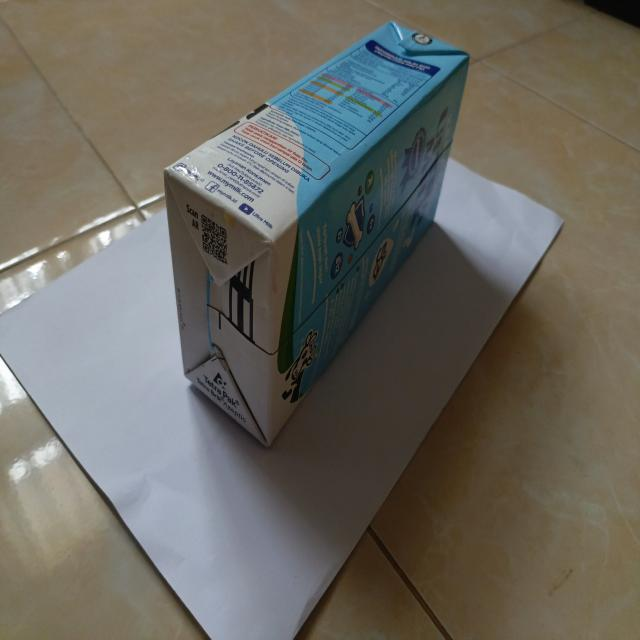indomie-mie-kocok-bandung: (164, 18, 471, 452)
